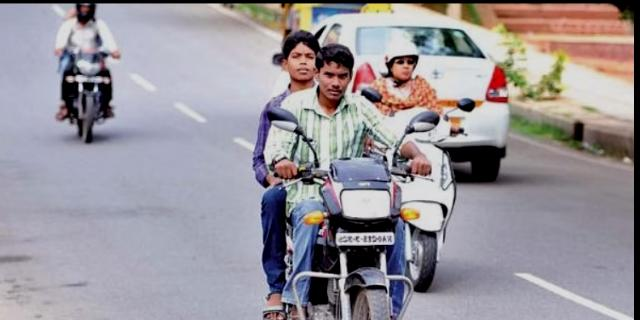licensePlate: (330, 230, 399, 249), (75, 76, 103, 85)
motorcycle: (258, 30, 440, 320), (368, 43, 476, 277), (53, 3, 112, 146)
withHelmet: (378, 45, 419, 80), (72, 1, 93, 22)
withoutHelmet: (316, 48, 355, 100), (282, 33, 316, 84)
